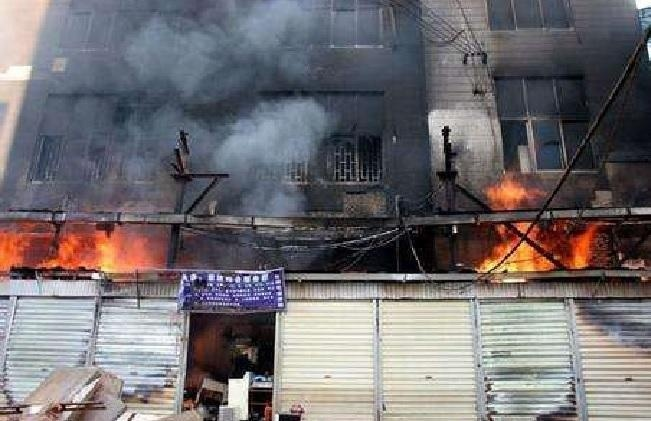fire: (473, 174, 608, 279), (0, 208, 161, 277)
